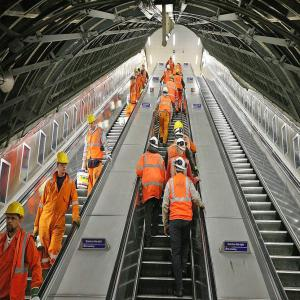none: (139, 68, 142, 76)
white: (175, 158, 186, 176), (176, 138, 187, 156), (150, 136, 160, 152), (175, 129, 185, 141), (163, 87, 169, 96), (167, 66, 171, 72), (171, 56, 174, 61)
yellow: (5, 204, 25, 234), (57, 152, 70, 175), (87, 114, 97, 132), (175, 122, 183, 133), (131, 76, 136, 85), (170, 76, 175, 82), (177, 69, 181, 76), (135, 69, 138, 77), (143, 64, 146, 71)
